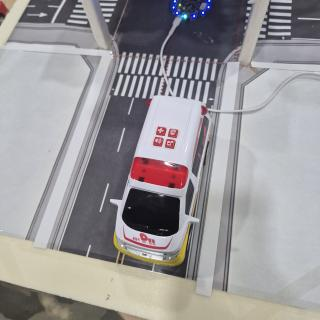Ambulance: (110, 95, 211, 266)
